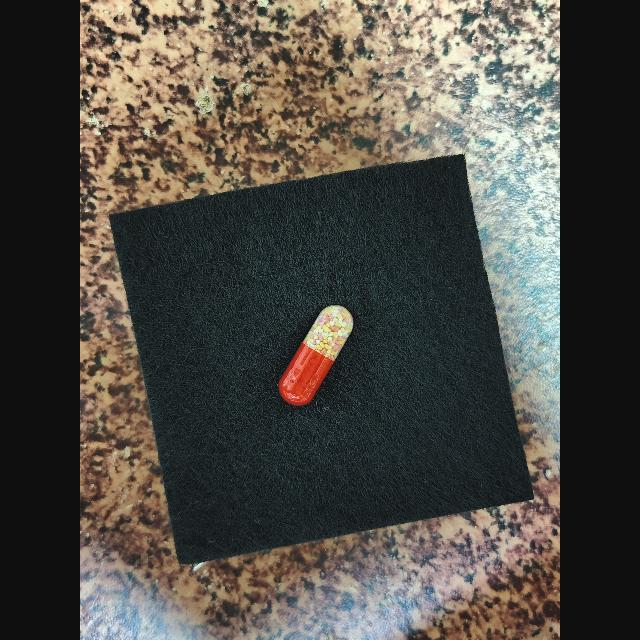Intact Capsule: (279, 305, 354, 406)
